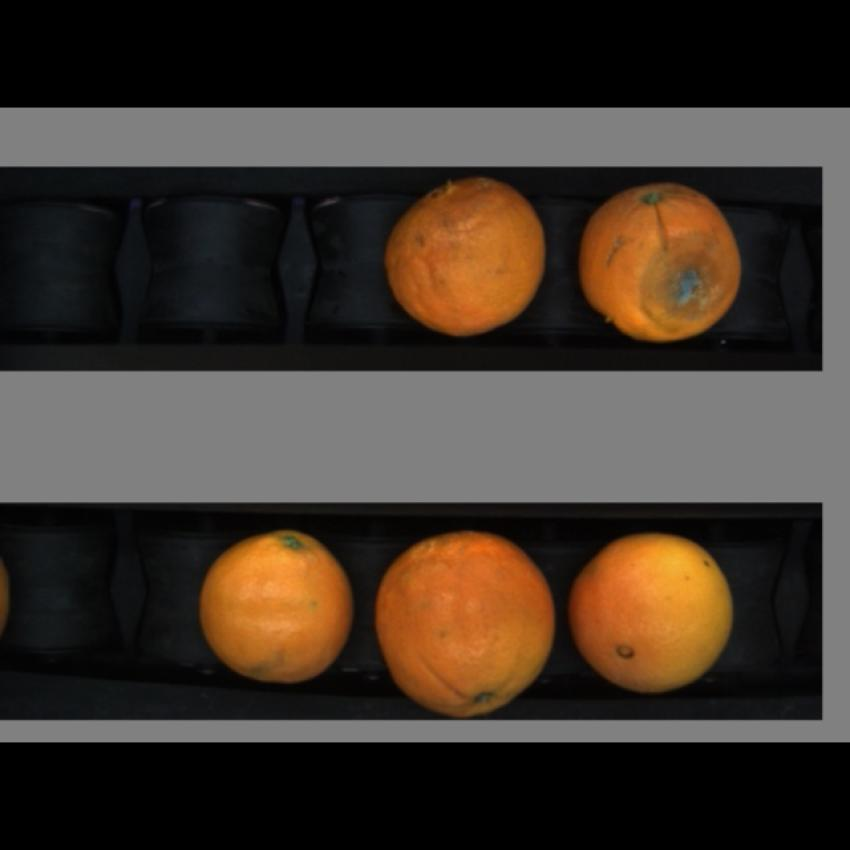Buen estado: (569, 526, 740, 695)
Mal estado: (369, 533, 564, 717), (382, 175, 559, 338), (575, 181, 752, 343), (196, 524, 358, 693)
